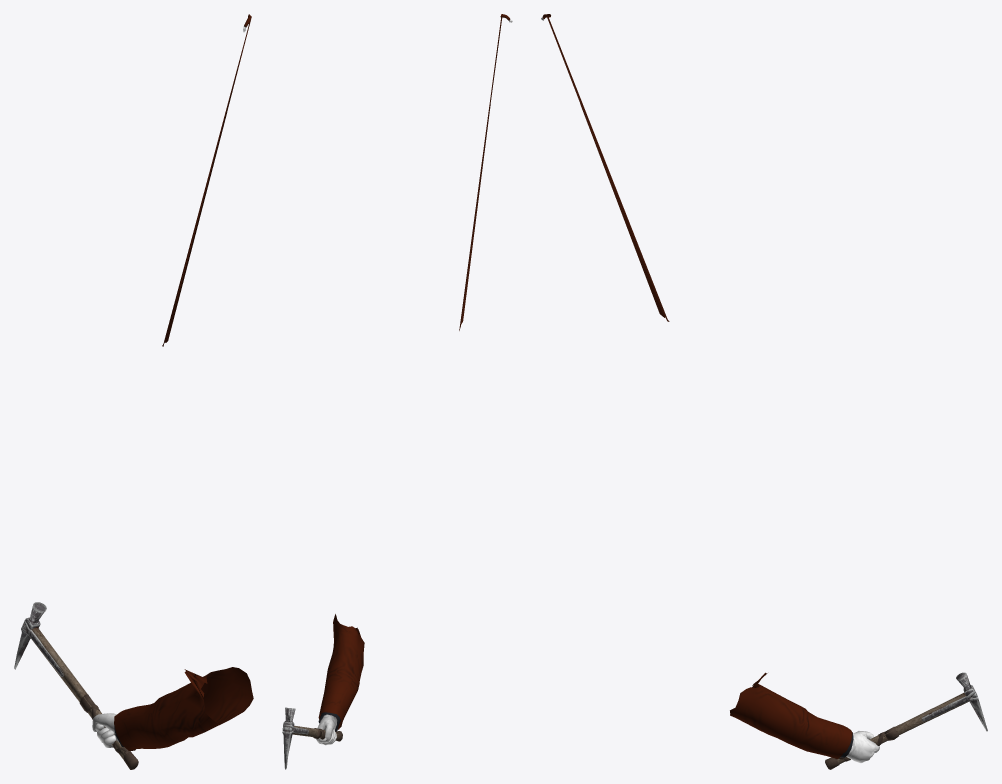
The model's file is frame_17.obj.
3 views of the same model, side by side, from view 1: azimuth 30°, elevation 25°; view 2: azimuth 150°, elevation 25°; view 3: azimuth 270°, elevation 25° (orthographic). The views are drawn at different scales.
Visible parts, largest first — view 1: PlayerModelMerged.001_PlayerModelMerged, Cube.028; view 2: PlayerModelMerged.001_PlayerModelMerged, Cube.028; view 3: PlayerModelMerged.001_PlayerModelMerged, Cube.028.
Boxes of the visible parts, <box> form: PlayerModelMerged.001_PlayerModelMerged: <box>92,14,253,750</box>; Cube.028: <box>14,602,138,769</box>; PlayerModelMerged.001_PlayerModelMerged: <box>316,14,512,745</box>; Cube.028: <box>282,707,342,769</box>; PlayerModelMerged.001_PlayerModelMerged: <box>541,14,879,762</box>; Cube.028: <box>825,672,987,769</box>.
Bounding box in the file's own units: 0.5862 × 3.84 × 2.12.
